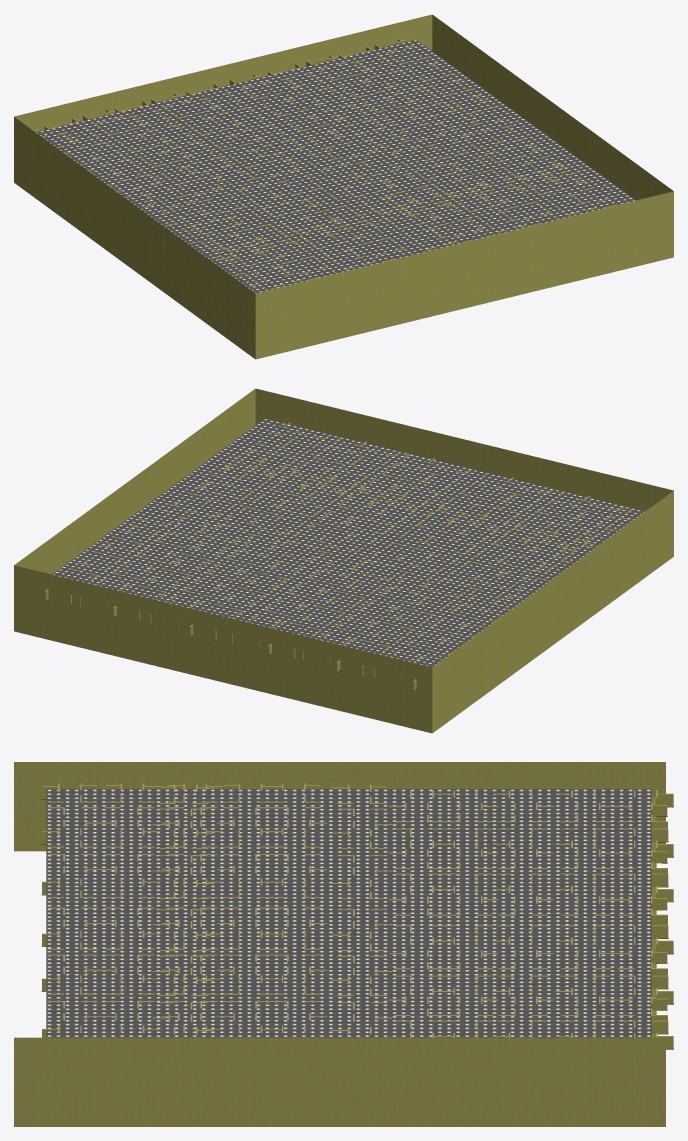
File: backrooms_level_0.obj
3 renders of one model, top to bottom at view 1: azimuth 30°, elevation 25°; view 2: azimuth 150°, elevation 25°; view 3: azimuth 270°, elevation 25°, orthographic. The views are drawn at different scales.
Parts seen in each view (by area): view 1: Object_6, Object_29, Object_31, Object_37, Object_20, Object_23, Object_34, Object_14, Object_40, Object_17, Object_26, Object_8 (+2 smaller); view 2: Object_6, Object_29, Object_11, Object_37, Object_34, Object_14, Object_20, Object_23, Object_17, Object_43, Object_26, Object_8 (+2 smaller); view 3: Object_6, Object_29, Object_31, Object_11, Object_14, Object_17, Object_23, Object_34, Object_40, Object_20, Object_8, Object_37 (+2 smaller).
Boxes of the visible parts, box(x1,y1,x2,y2) form: Object_6: box(36, 39, 635, 293); Object_29: box(14, 14, 673, 359); Object_31: box(30, 38, 414, 137); Object_37: box(80, 73, 462, 175); Object_20: box(184, 161, 571, 271); Object_23: box(163, 149, 550, 256); Object_34: box(56, 56, 439, 158); Object_14: box(207, 178, 594, 288); Object_40: box(100, 88, 482, 189); Object_17: box(213, 163, 576, 262); Object_26: box(147, 137, 535, 245); Object_8: box(143, 119, 513, 214); Object_6: box(52, 418, 644, 667); Object_29: box(14, 388, 673, 733); Object_11: box(270, 422, 657, 533); Object_37: box(92, 542, 479, 644); Object_34: box(69, 559, 456, 660); Object_14: box(246, 443, 634, 550); Object_20: box(223, 460, 611, 567); Object_23: box(203, 474, 590, 582); Object_17: box(224, 456, 594, 551); Object_43: box(128, 519, 510, 619); Object_26: box(187, 483, 574, 594); Object_8: box(161, 501, 523, 600); Object_6: box(46, 789, 651, 1037); Object_29: box(14, 762, 665, 1126); Object_31: box(613, 790, 673, 1049); Object_11: box(42, 783, 102, 1037); Object_14: box(99, 783, 160, 1032); Object_17: box(152, 784, 213, 1034); Object_23: box(217, 783, 277, 1032); Object_34: box(555, 790, 615, 1037); Object_40: box(437, 790, 498, 1037); Object_20: box(162, 783, 222, 1032); Object_8: box(331, 784, 392, 1034); Object_37: box(492, 790, 553, 1037).
Bounding box in the file's own units: 320 × 48.28 × 323.
Materials: 4 (3 with a texture image).
